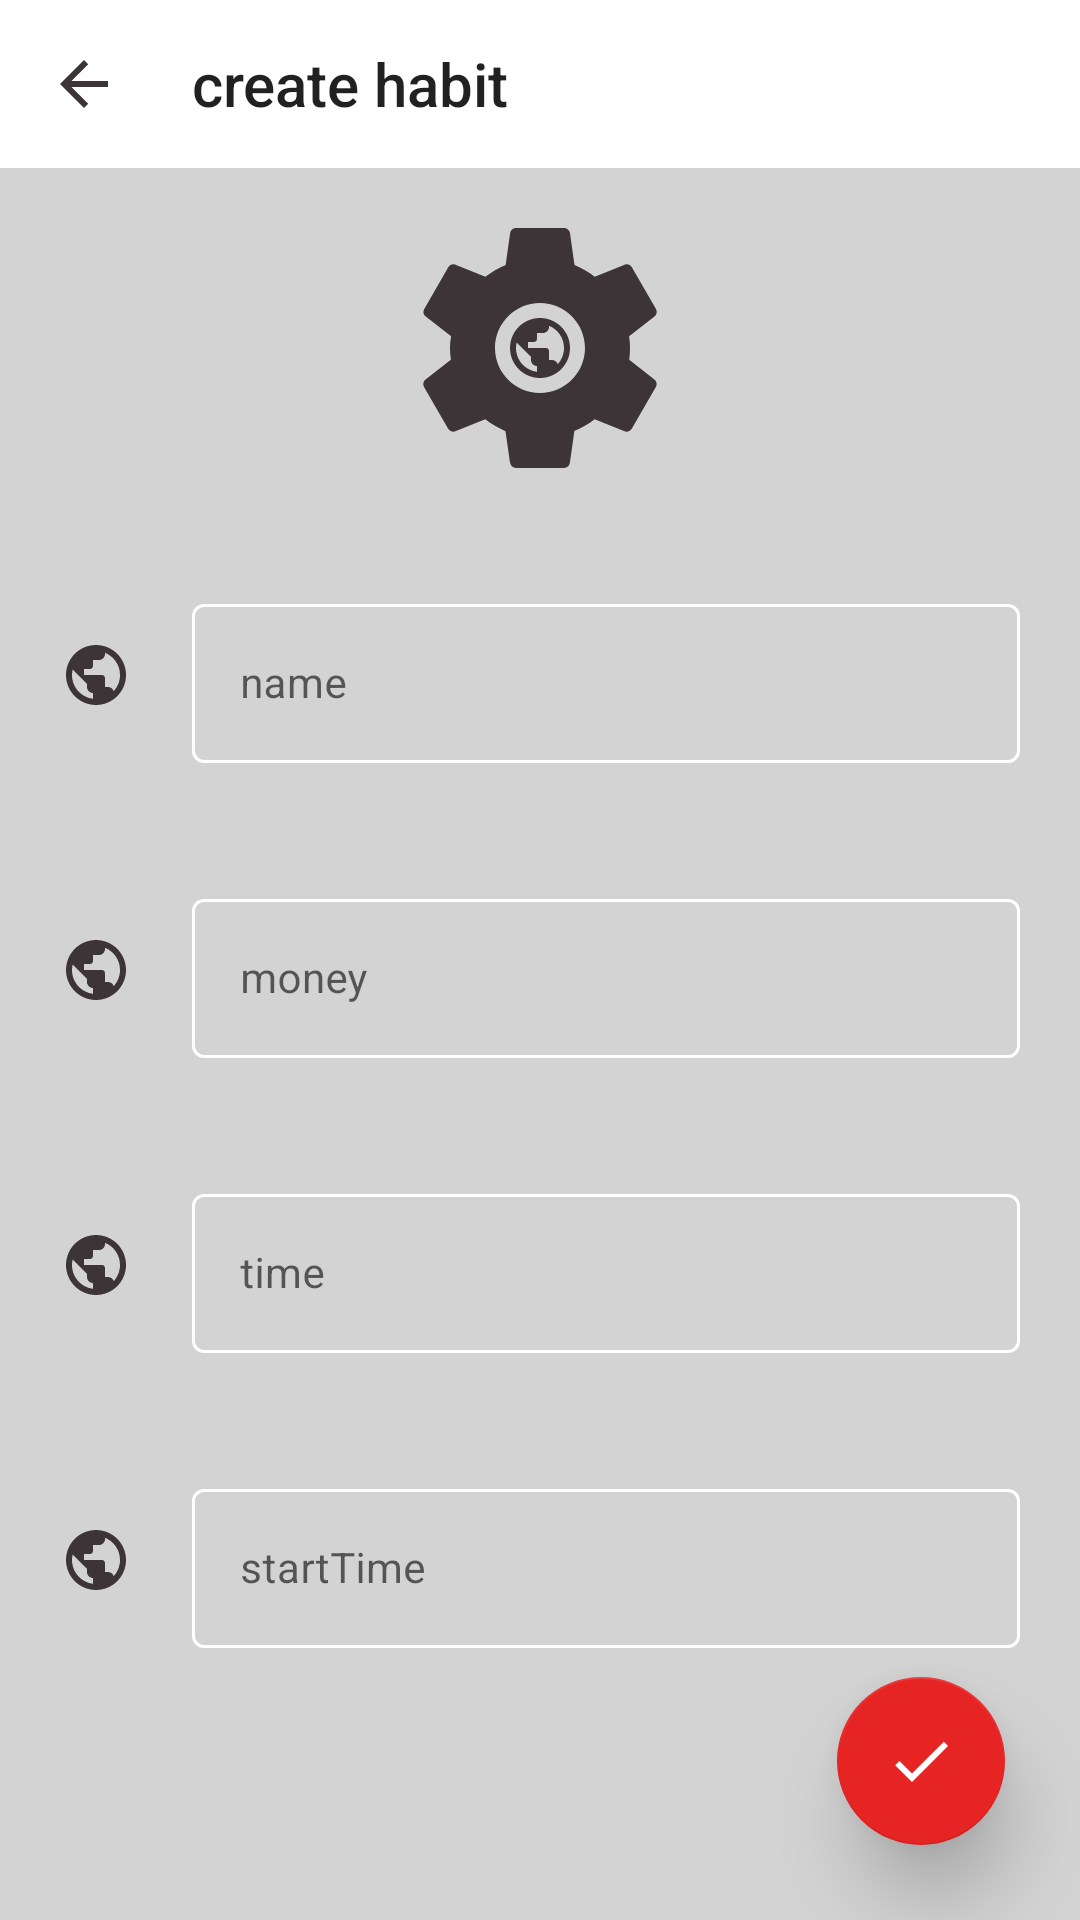

Named icons in this screenshot (1080w x 1920h) and their centers, [x,y]:
done: [921,1761]
public: [540,348], [96,675], [96,970], [96,1265], [96,1560]
